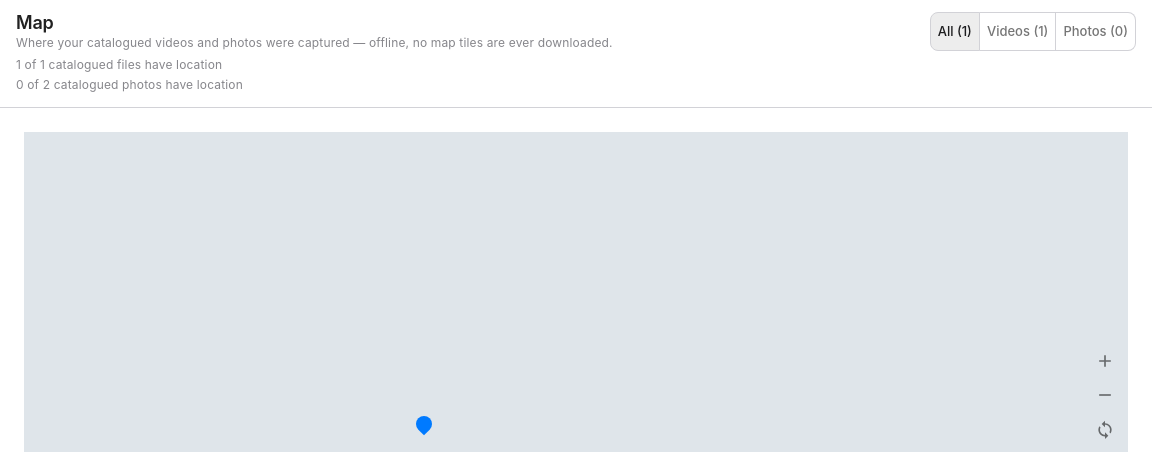
Test case: MapView › explains a medium with no located files instead of rendering a pinless map
Step 1. Click the button with test id "map-media-filter-photo" → (1096, 31), box [1055,12,1136,51]
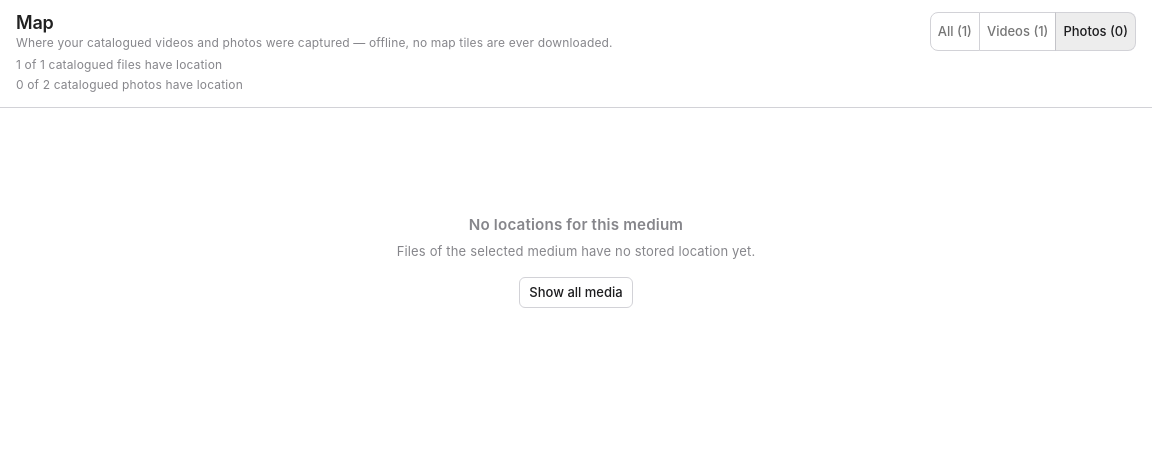
expect the element with test id "map-media-empty-state" is shown: met, box [397,215,755,308]
Step 2. Click the button with test id "map-media-empty-show-all" → (576, 292), box [519,277,633,308]
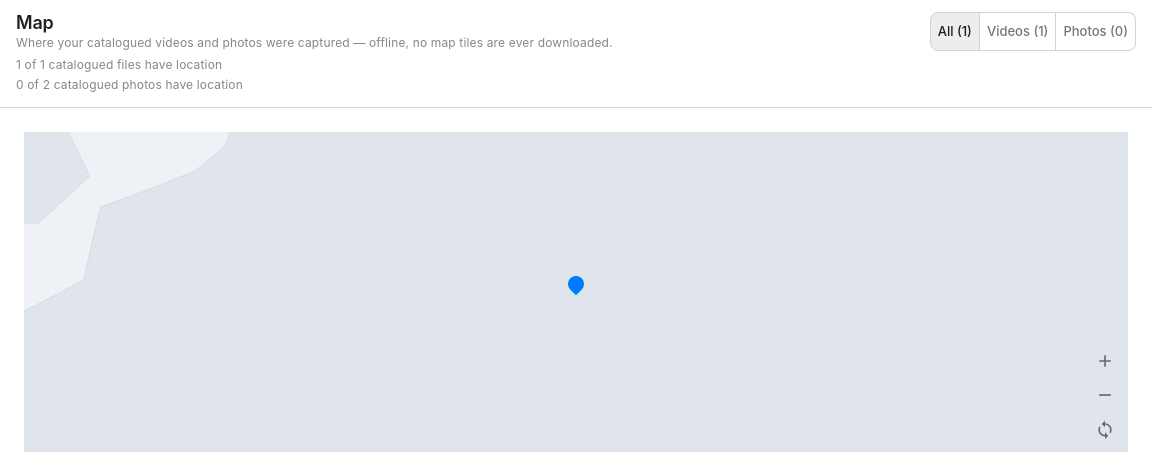
expect the number of buttons with test id "map-pin" is 1: met, box [565,272,587,295]
